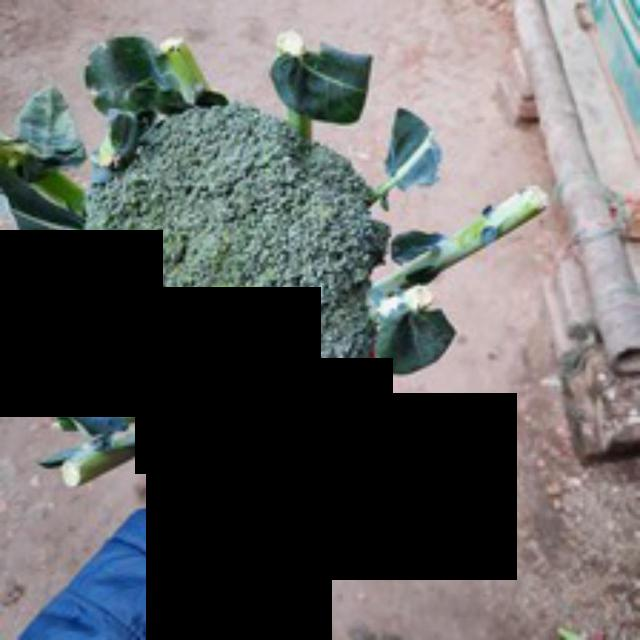broccoli: (39, 101, 398, 423)
